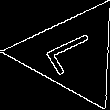L_NE: (39, 28, 105, 80)
